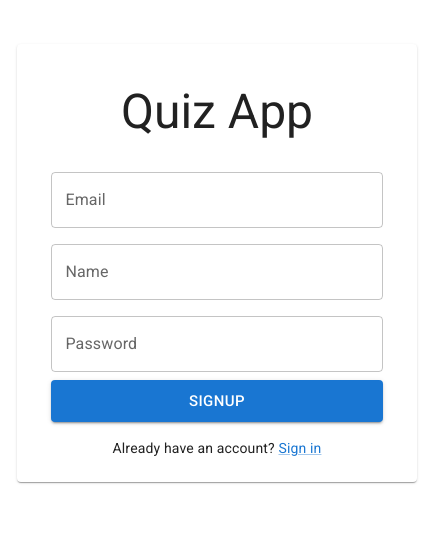
it: Signup Component › displays error message on failed signup
The image size is (435, 533).
In the field labelled "Email": (217, 200) [51,172,383,228], type "test@example.com"
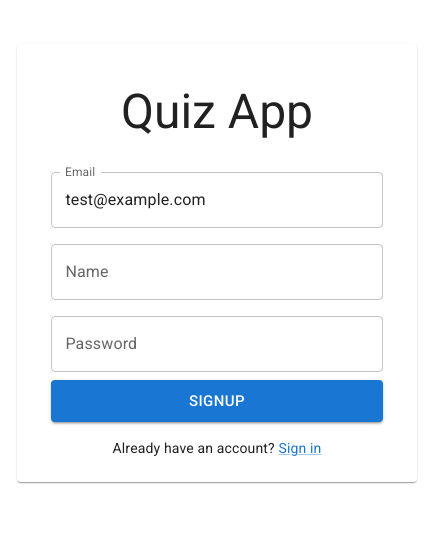
In the field labelled "Name": (217, 272) [51,244,383,300], type "Test User"
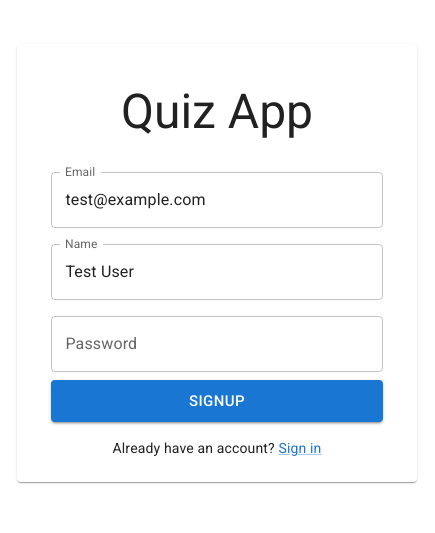
In the password field labelled "Password": (217, 344) [51,316,383,372], type "password"
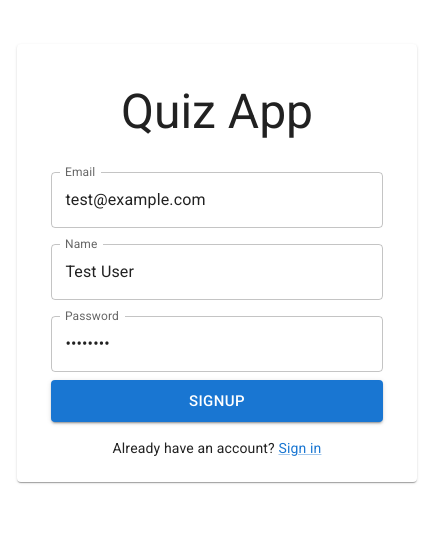
Click the button "Signup": click(217, 401) [51,380,383,422]
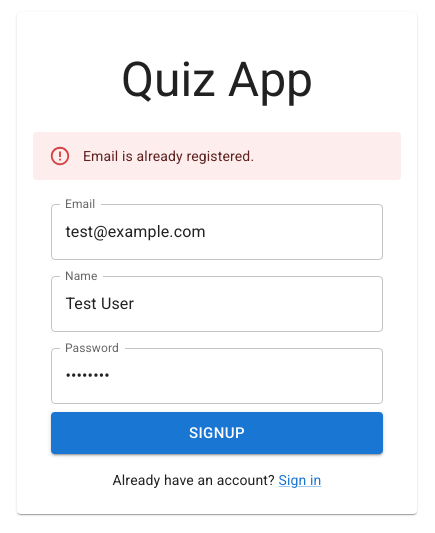
Expected: the text "Email is already registered." is shown, [83,148,254,164]
